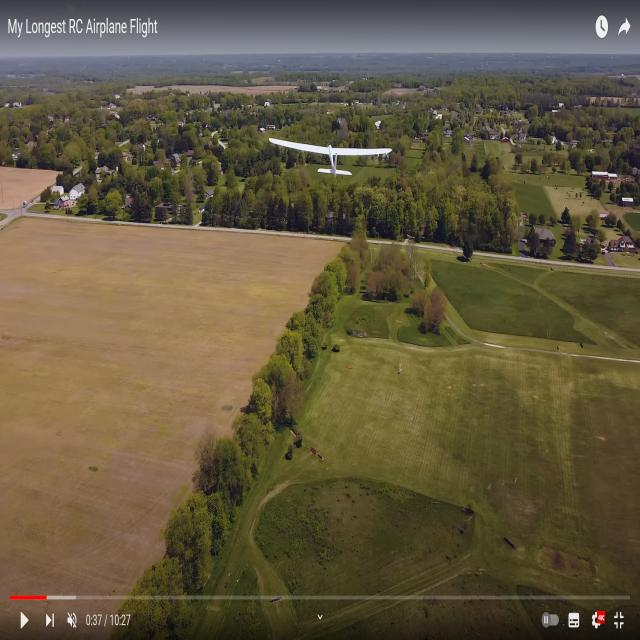iha: (292, 129, 353, 179)
